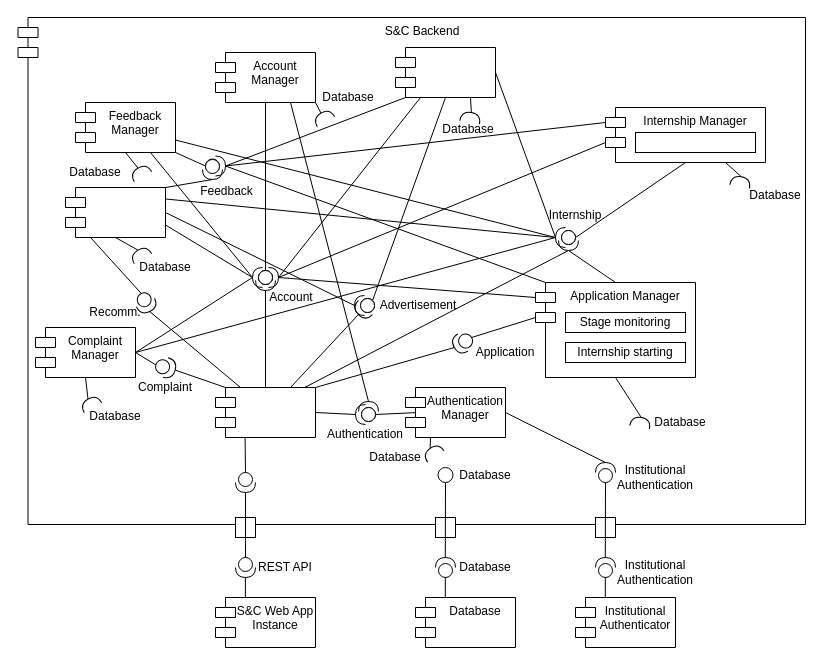
Some shapes in this 823 by 665 pixel diagram are drawn without their labels. Each missing label, with the centre of its shape:
Advertisement Manager: point (445, 72)
API: point (265, 412)
Monitoring: point (695, 142)
Recommend. Manager: point (115, 212)
